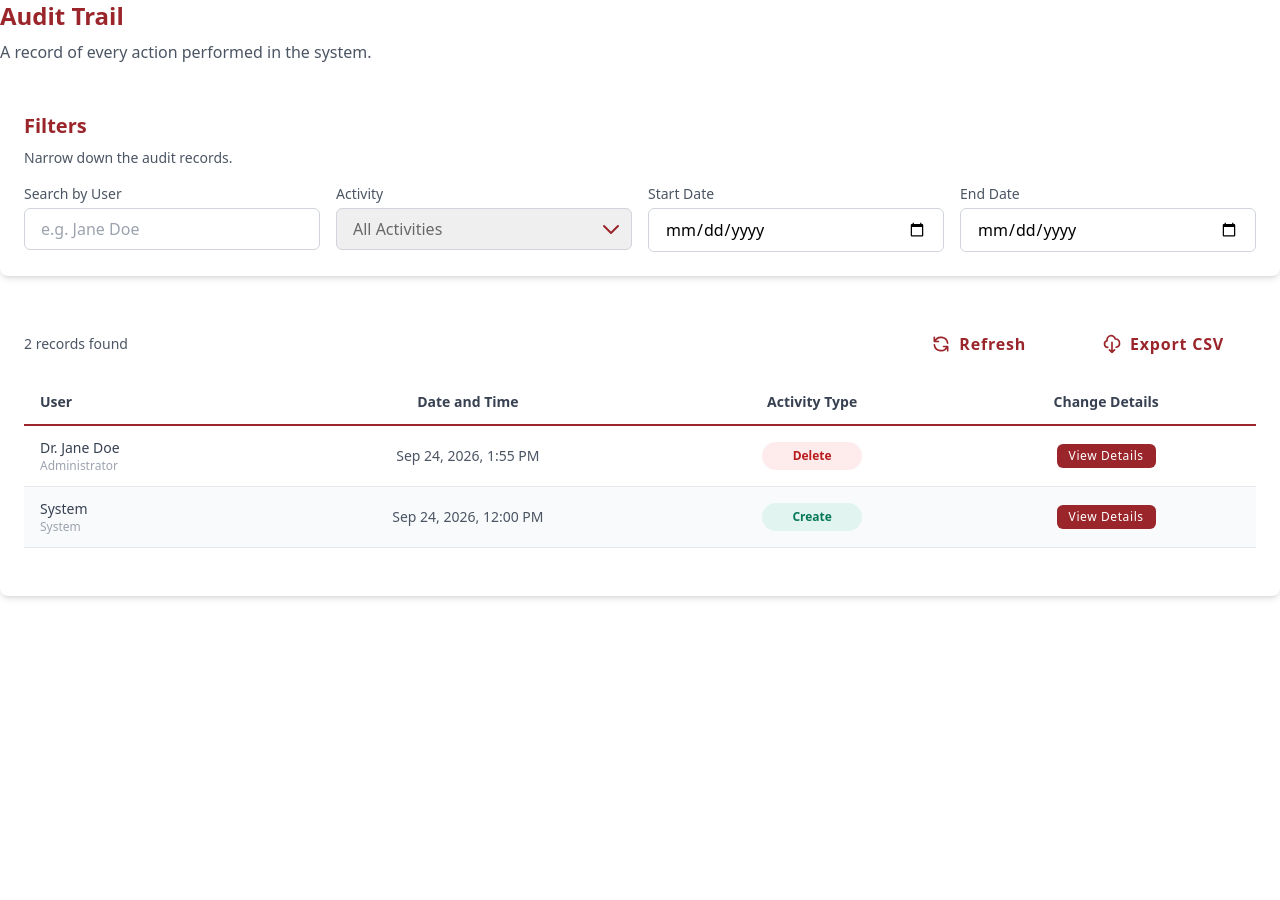
audit trail › opens the detail with a spinner while the record loads
Later steps or results of the test are not shown.
Click the button "View Details" in the row of "Dr. Jane Doe" at (1106, 456), box [1057, 444, 1156, 468]
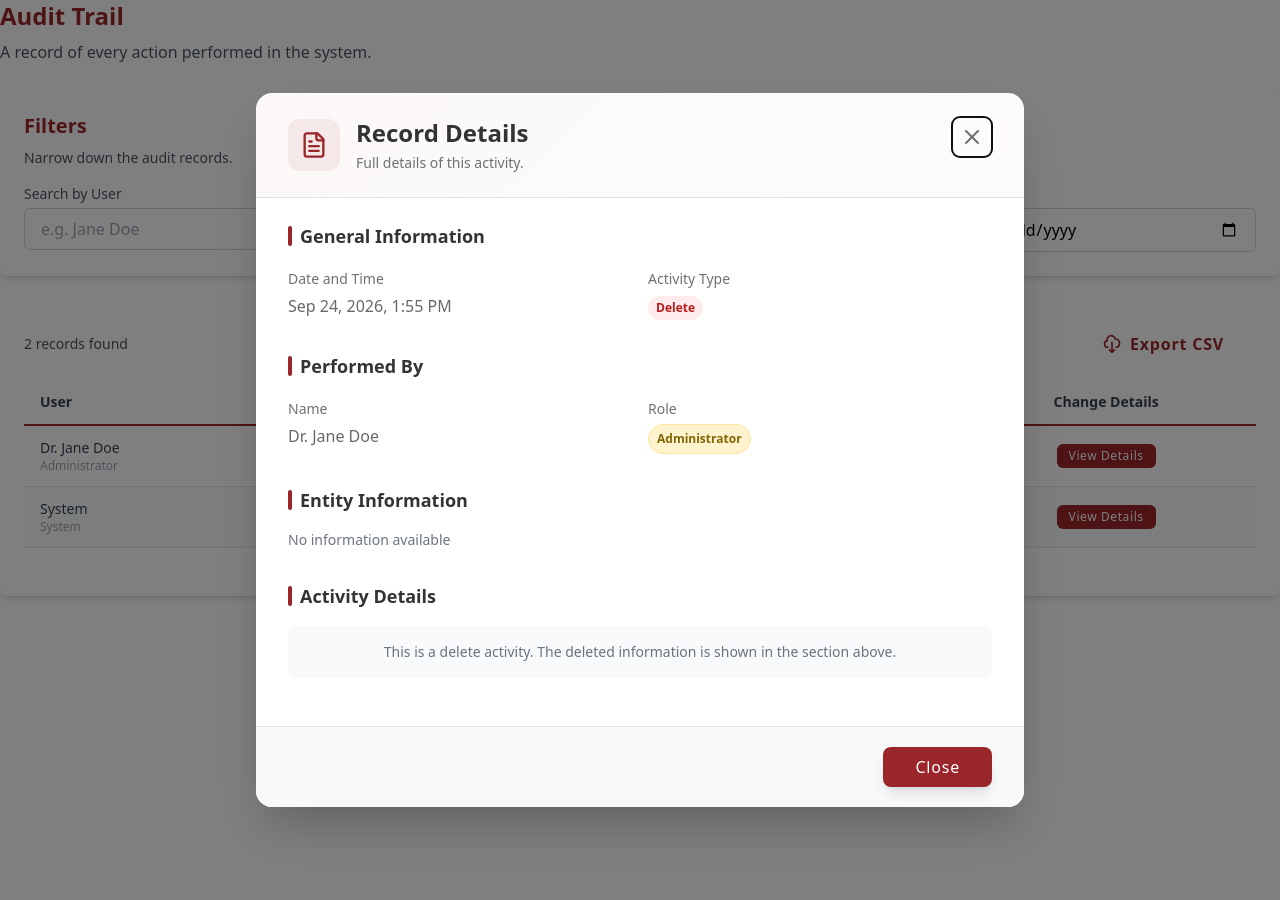
Now the heading "Record Details" is shown, box [356, 117, 528, 149]
Now the heading "Performed By" is shown, box [300, 352, 423, 380]
